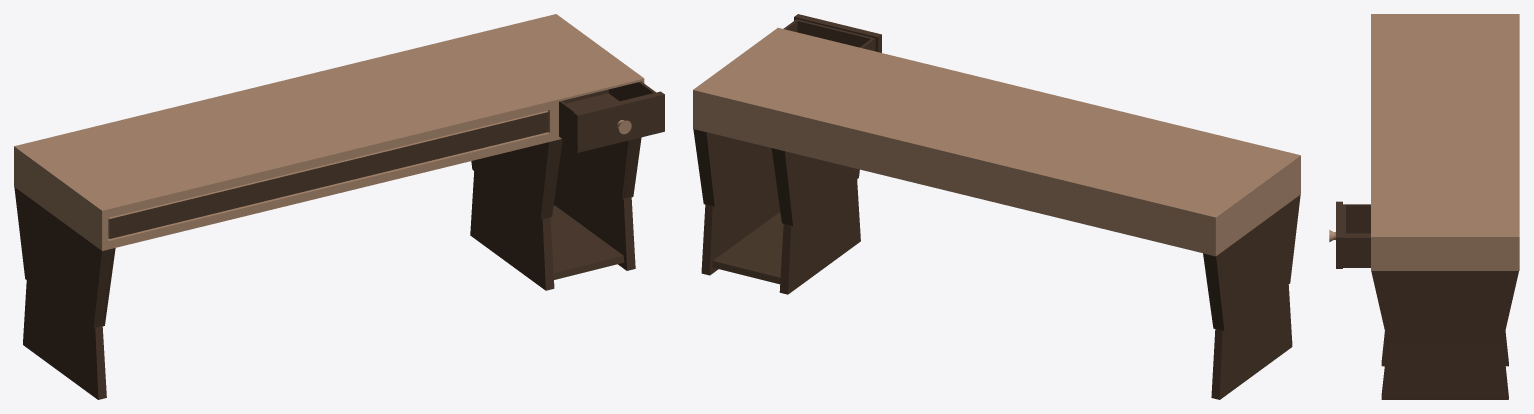
Rendered from prop_desk.glb.
The picture shows the model from 3 angles, left to right: view 1: azimuth 30°, elevation 25°; view 2: azimuth 150°, elevation 25°; view 3: azimuth 270°, elevation 25°; orthographic projection. The views are drawn at different scales.
Parts seen in each view (by area): view 1: table; view 2: table; view 3: table.
Boxes of the visible parts, box(x1,y1,x2,y2) form: table: box(14, 14, 664, 399); table: box(693, 14, 1300, 399); table: box(1329, 14, 1519, 399).
Size of the model in its own units: 4.99 by 1.71 by 1.8.
Materials: 5 (1 with a texture image).
